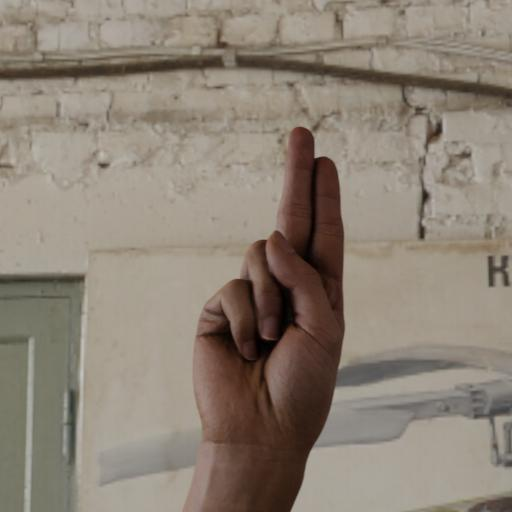U: (186, 122, 347, 448)
